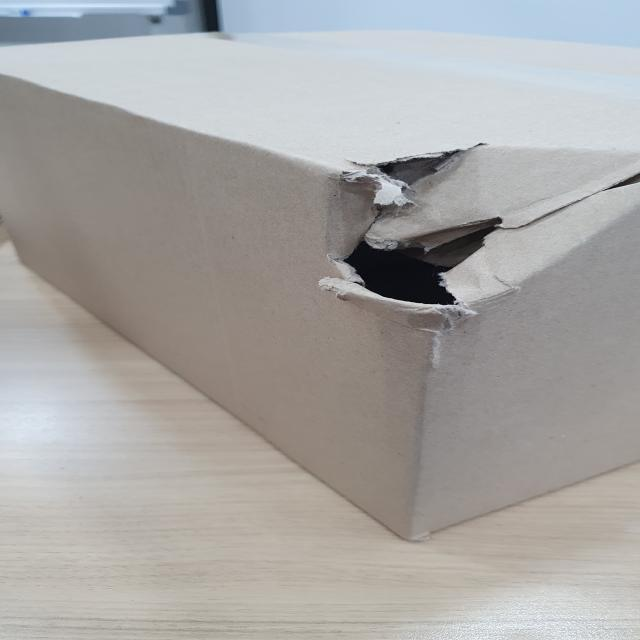hole: (302, 142, 640, 317)
